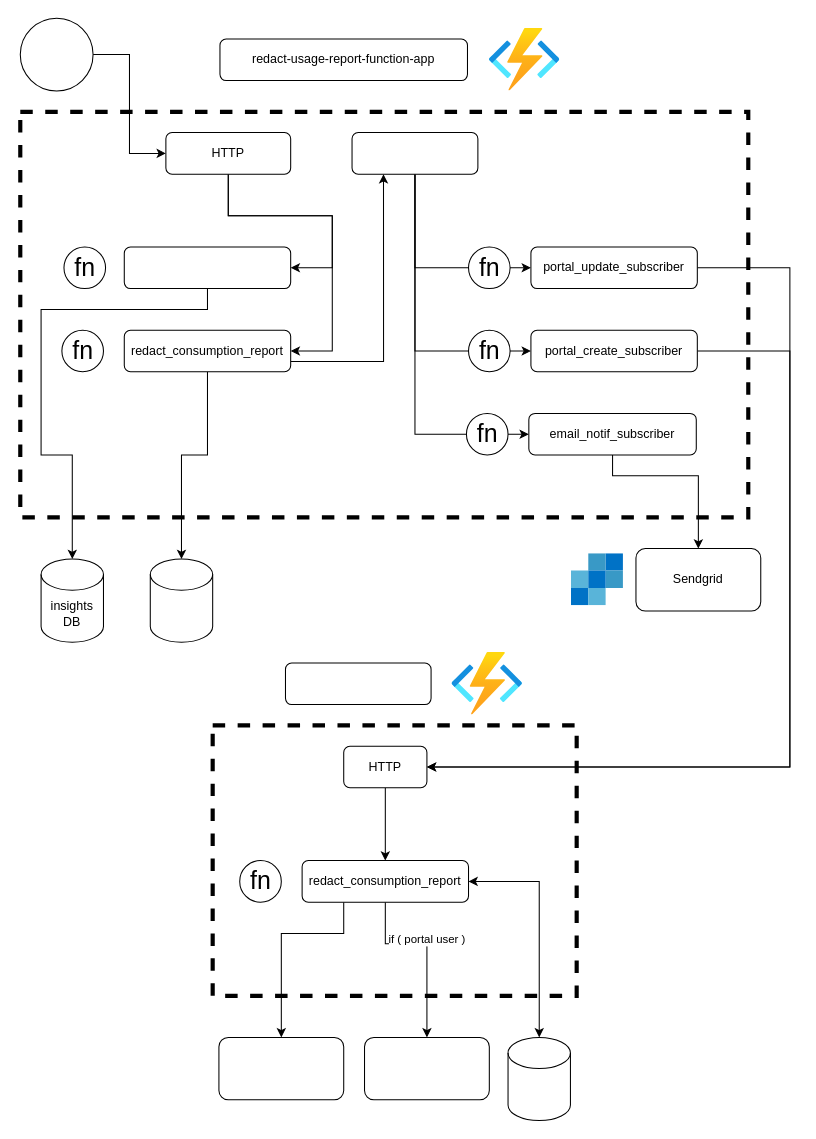
Some shapes in this 816 by 1139 pixel diagram are drawn without their labels. Here are the shapes that lost their labels. From the top down, the centre of each, then its label:
At (56,54): "ENTRY (redact container)".
At (414,153): "Service Bus".
At (207,267): "redact_insights_report".
At (181,600): "task DB".
At (357,683): "portal-usage-report".
At (281,1068): "Kibana".
At (426,1068): "Stripe".
At (538,1078): "portal DB".
